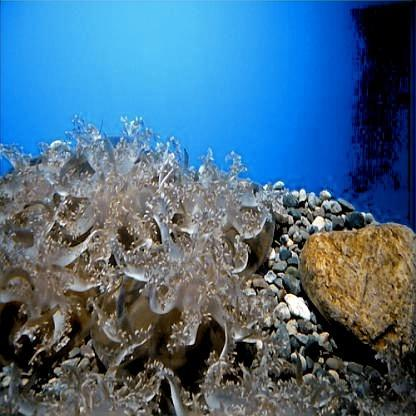Fish: (120, 223, 274, 384), (46, 122, 177, 258), (150, 149, 274, 291), (163, 330, 334, 414), (3, 239, 97, 366), (0, 139, 94, 262), (7, 339, 163, 413), (333, 346, 413, 410)
